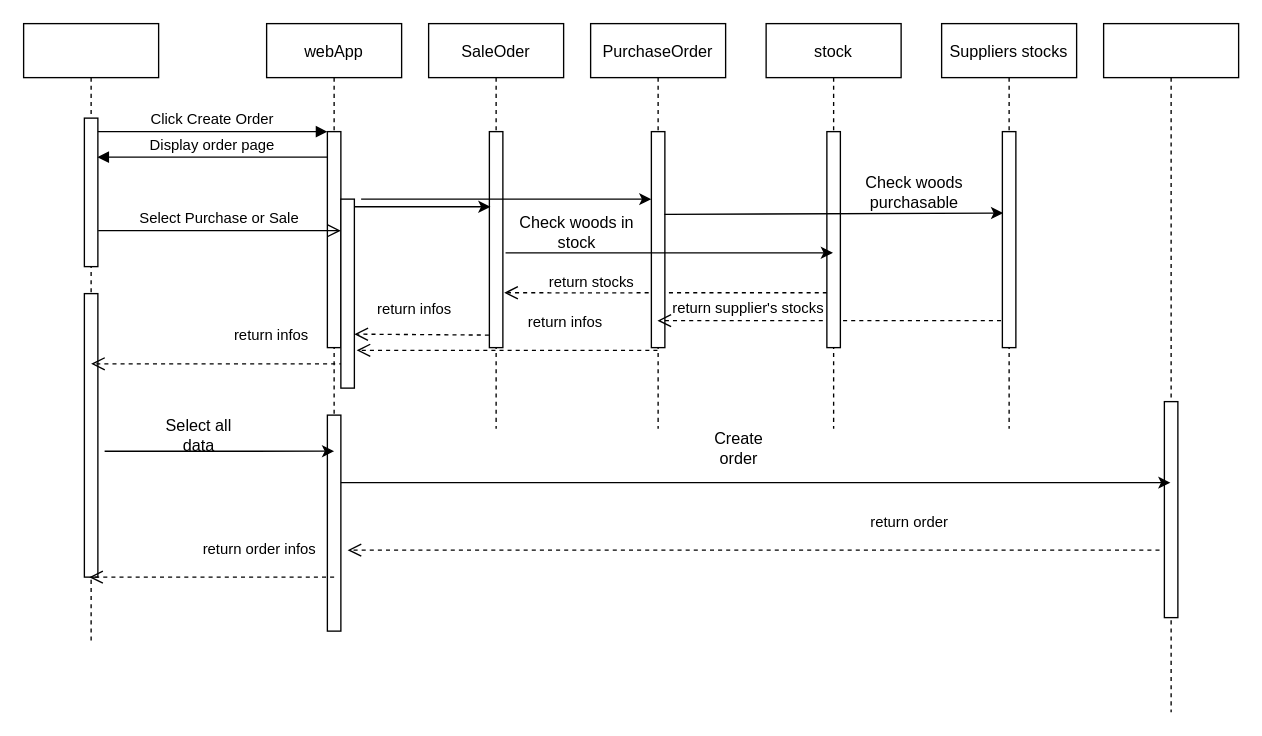
This 1262x736 diagram has some shape labels left out. The shapes that lost their labels are listed below. From the top down, each one's centre as x and y in pixels, then its label:
At point 90,333: "User".
At point 1170,367: "server".
